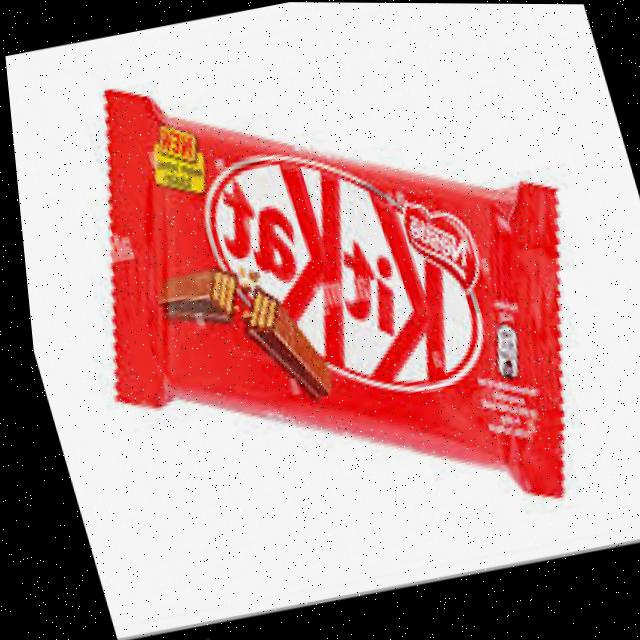kitkat: (19, 10, 639, 578)
